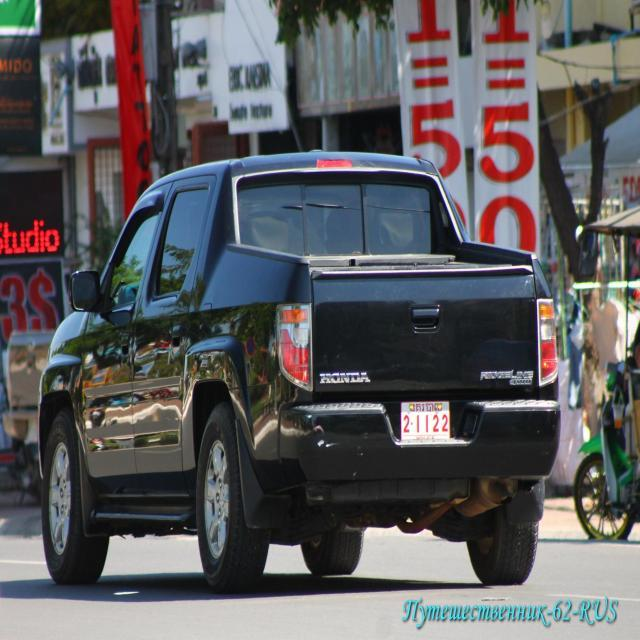Police: (410, 402, 443, 414)
